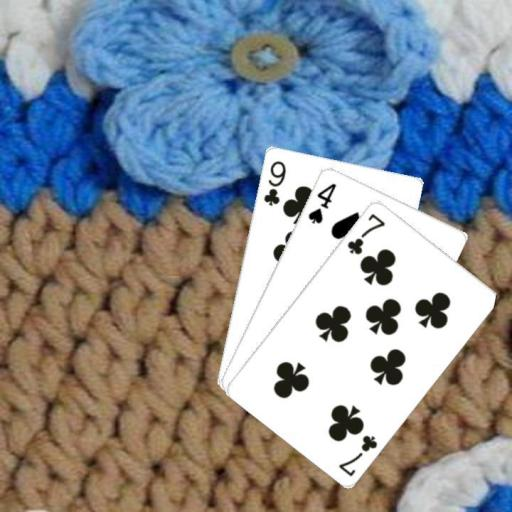4S: (304, 179, 338, 225)
7C: (335, 431, 379, 478), (343, 210, 387, 256)
9C: (261, 157, 288, 208)
